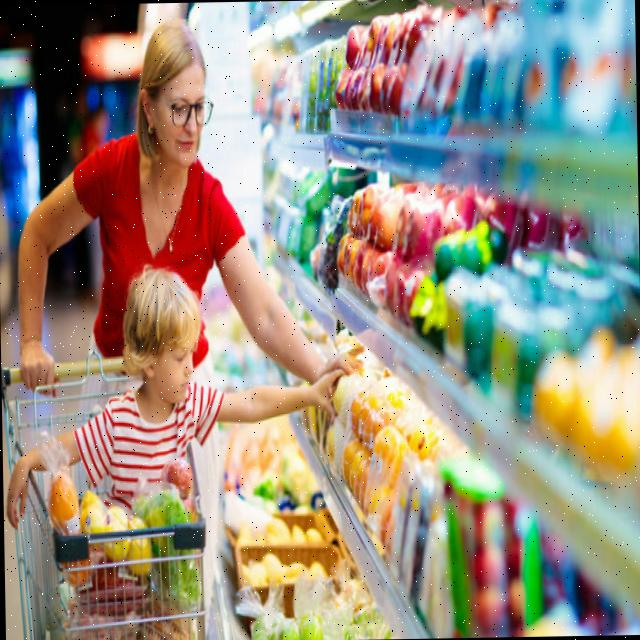Person: (12, 14, 362, 397), (2, 264, 345, 526)
